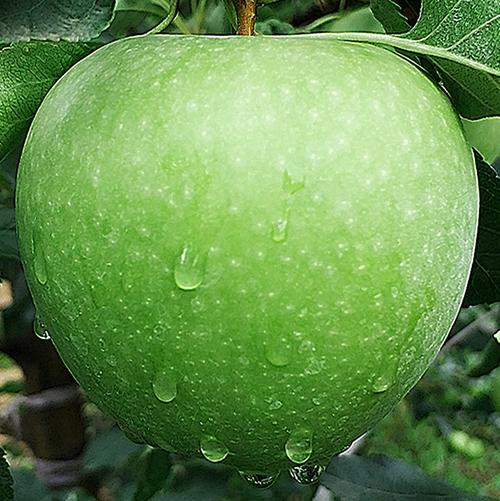unripe: (15, 26, 500, 496)
